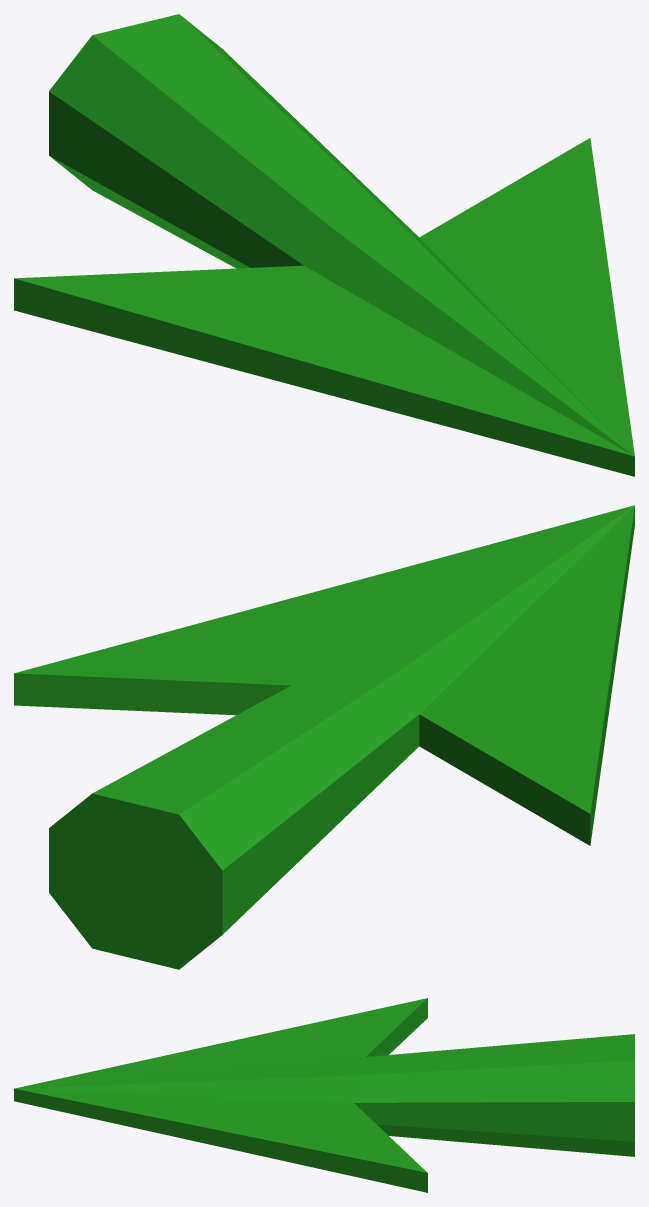
Rendered from flat_arrow.obj.
3 renders of one model, top to bottom at view 1: azimuth 30°, elevation 25°; view 2: azimuth 150°, elevation 25°; view 3: azimuth 270°, elevation 25°, orthographic. The views are drawn at different scales.
Visible parts, largest first — view 1: Plane_Material.001; view 2: Plane_Material.001; view 3: Plane_Material.001.
Part boxes in pixels (x1=…): Plane_Material.001: x1=14, y1=14, x2=634, y2=476; Plane_Material.001: x1=14, y1=505, x2=634, y2=969; Plane_Material.001: x1=14, y1=998, x2=634, y2=1192.
Bounding box in the file's own units: 2 × 0.5143 × 3.
1 material, 1 textured.
